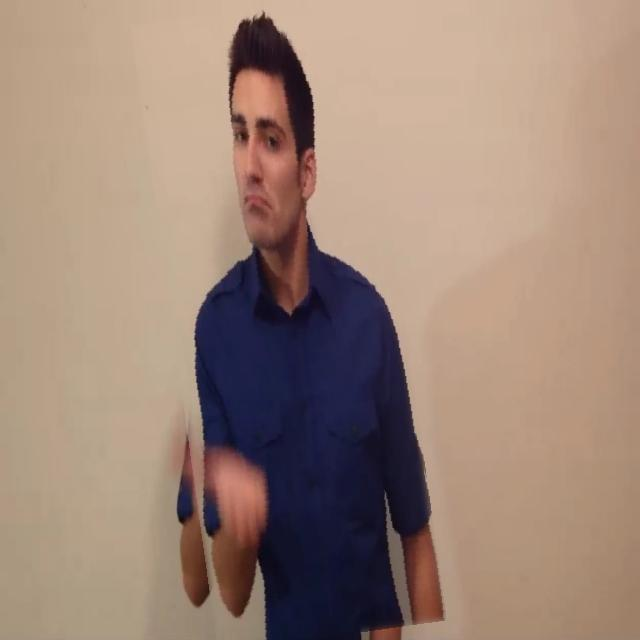ThankYou: (151, 0, 425, 640)
